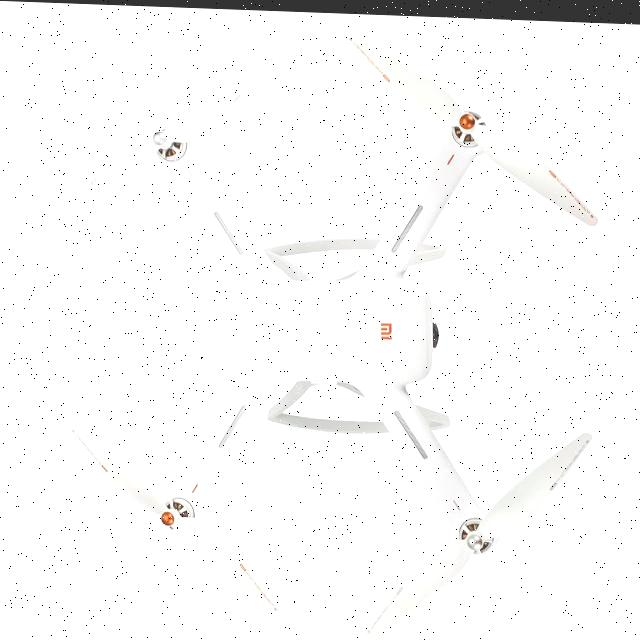drone: (91, 16, 611, 640)
